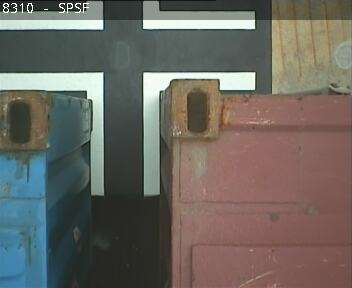groundmarker_1: (1, 70, 255, 194)
